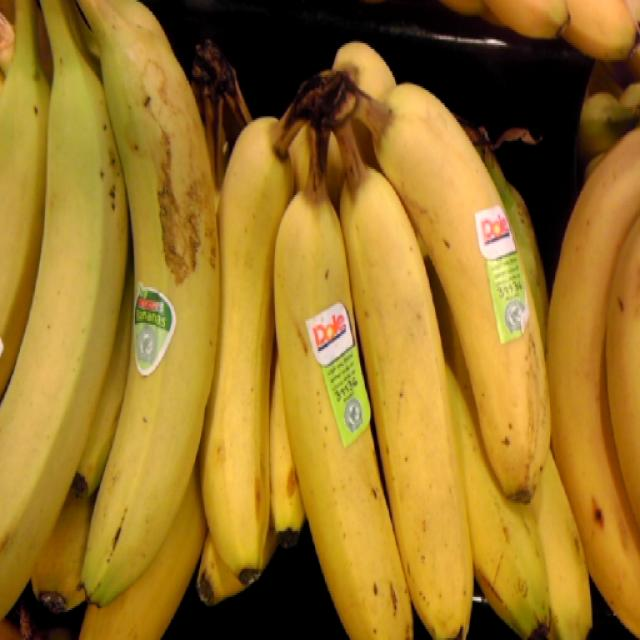banana: (192, 35, 555, 640), (1, 0, 221, 640)
